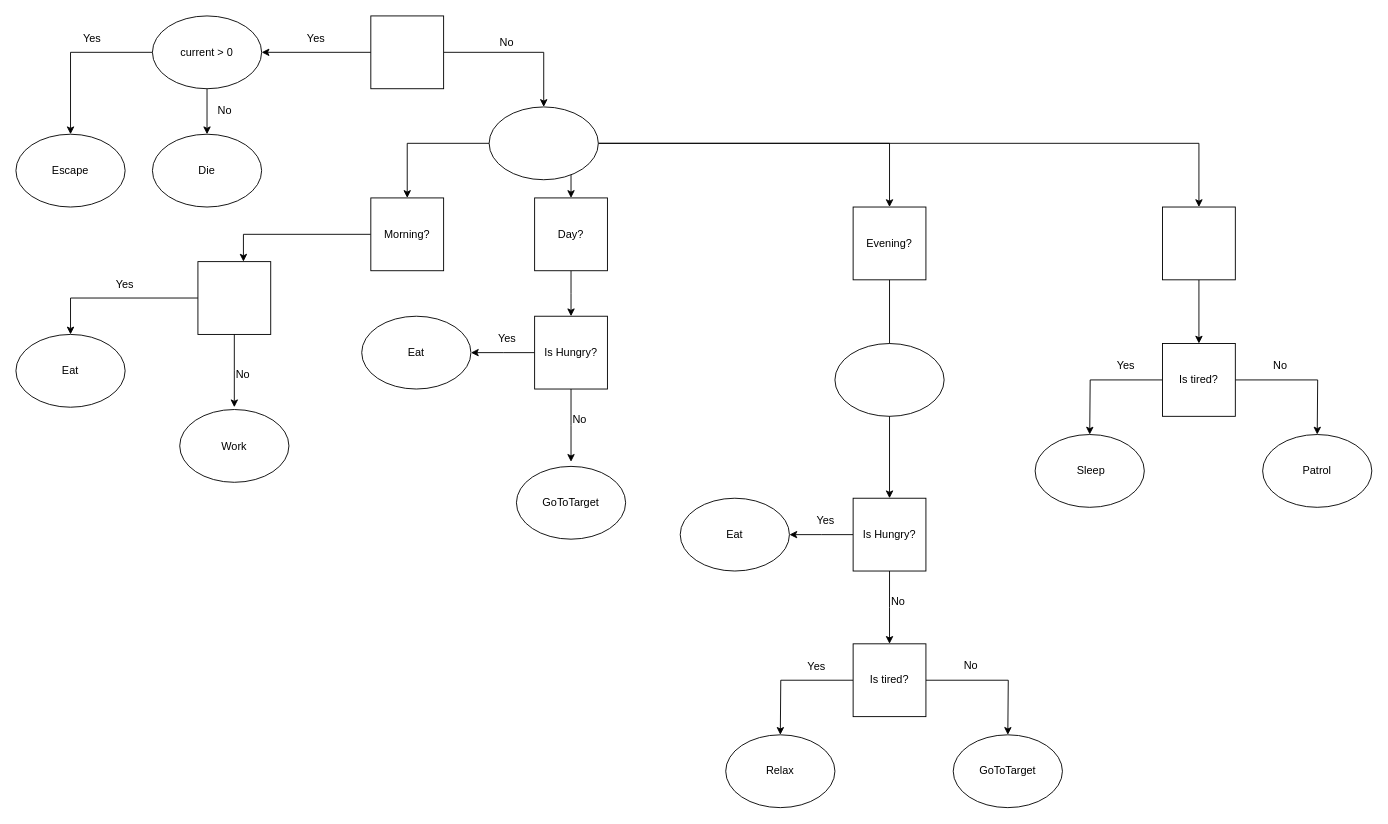
This 1388x824 diagram has some shape labels left out. The shapes that lost their labels are listed below. From the top down, each one's centre as x and y in pixels, then its label:
At (407,52): "Danger?".
At (543,143): "Idle".
At (1198,243): "Night?".
At (234,297): "Hungry?".
At (889,379): "Stop to work".
